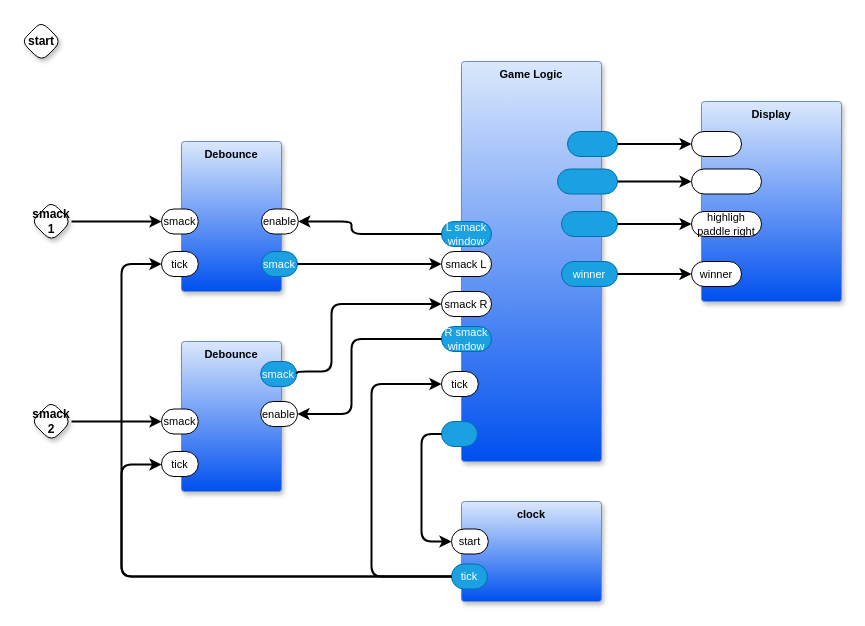
This 865x626 diagram has some shape labels left out. Here are the shapes that lost their labels. From the top down, the centre of each, then its label:
At pixel 592 143: "ball pos".
At pixel 716 143: "ball position".
At pixel 587 181: "left highlight".
At pixel 726 181: "highlight paddle left".
At pixel 589 223: "right highlight".
At pixel 459 433: "start clock".
